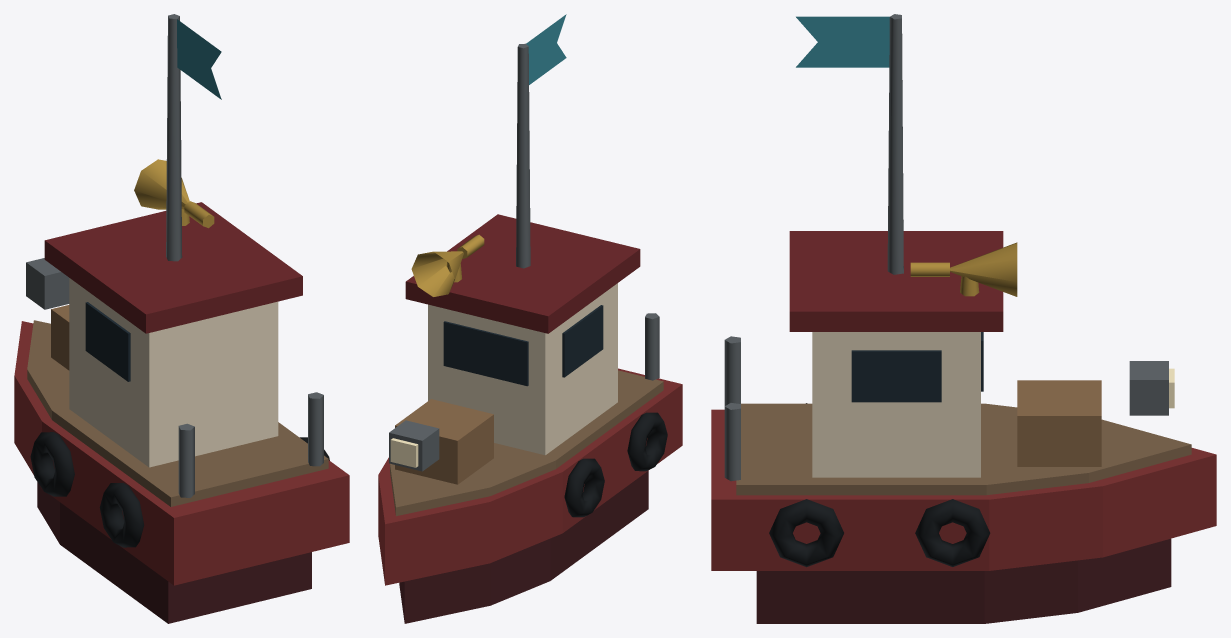
File: wake-boat.glb
3 renders of one model, left to right at view 1: azimuth 30°, elevation 25°; view 2: azimuth 150°, elevation 25°; view 3: azimuth 270°, elevation 25°, orthographic. The views are drawn at different scales.
Visible parts, largest first — view 1: Cabin, Hull_Top, Roof, Deck, Hull_Bottom, Tyre (×2), Mast, Post (×2), Window, Flag, Bow_Lamp_Housing, Bell (+2 smaller); view 2: Hull_Top, Cabin, Roof, Hull_Bottom, Deck, Window (×2), Crate, Tyre (×2), Mast, Bell, Bow_Lamp_Housing, Flag (+2 smaller); view 3: Hull_Top, Hull_Bottom, Cabin, Roof, Deck, Crate, Tyre (×2), Window, Flag, Mast, Post (×2), Bow_Lamp_Housing (+1 smaller).
Boxes of the visible parts, <box> form: Cabin: <box>69,278,278,467</box>; Hull_Top: <box>14,321,349,585</box>; Roof: <box>44,202,302,333</box>; Deck: <box>27,320,328,506</box>; Hull_Bottom: <box>37,482,311,623</box>; Tyre (×2): <box>30,432,144,547</box>; Mast: <box>166,14,182,261</box>; Post (×2): <box>178,392,323,497</box>; Window: <box>85,302,130,381</box>; Flag: <box>177,19,221,99</box>; Bow_Lamp_Housing: <box>26,258,69,309</box>; Bell: <box>134,159,189,209</box>; Hull_Top: <box>378,368,682,585</box>; Cabin: <box>428,283,617,455</box>; Roof: <box>405,214,640,333</box>; Hull_Bottom: <box>399,471,648,623</box>; Deck: <box>390,370,663,516</box>; Window (×2): <box>443,305,603,386</box>; Crate: <box>395,399,493,484</box>; Tyre (×2): <box>564,412,667,517</box>; Mast: <box>516,43,530,268</box>; Bell: <box>411,251,463,296</box>; Bow_Lamp_Housing: <box>389,420,439,471</box>; Flag: <box>526,14,566,84</box>; Hull_Top: <box>711,409,1216,570</box>; Hull_Bottom: <box>756,538,1171,623</box>; Cabin: <box>812,332,980,477</box>; Roof: <box>789,231,1003,331</box>; Deck: <box>736,403,1191,495</box>; Crate: <box>1017,380,1101,466</box>; Tyre (×2): <box>769,499,990,567</box>; Window: <box>851,350,941,402</box>; Flag: <box>796,16,889,67</box>; Mast: <box>887,14,903,274</box>; Post (×2): <box>724,336,740,481</box>; Bow_Lamp_Housing: <box>1129,361,1168,415</box>.
Size of the model in its own units: 0.4458 by 1.12 by 0.9.
